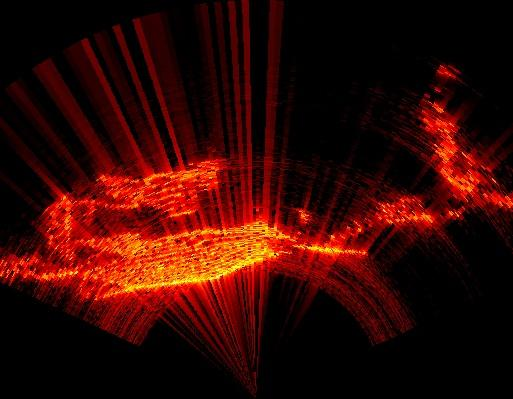shipwreck: (1, 96, 510, 298)
